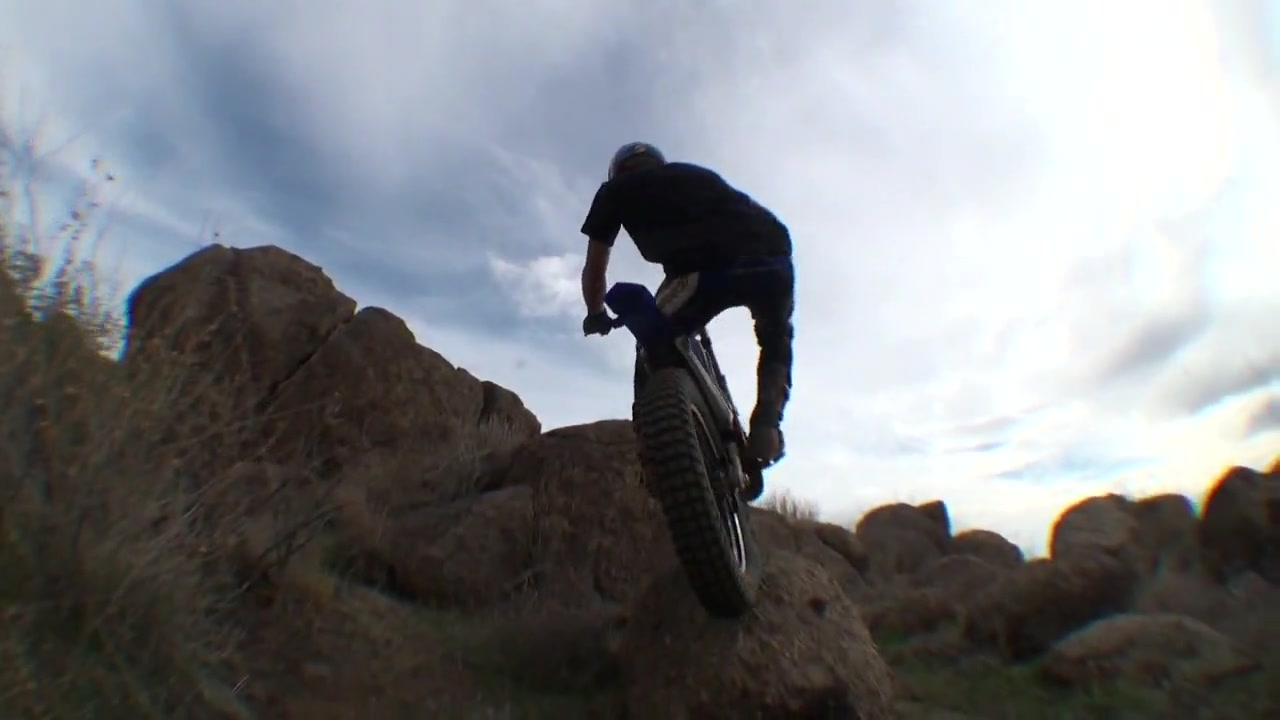motorbike: (604, 280, 778, 621)
